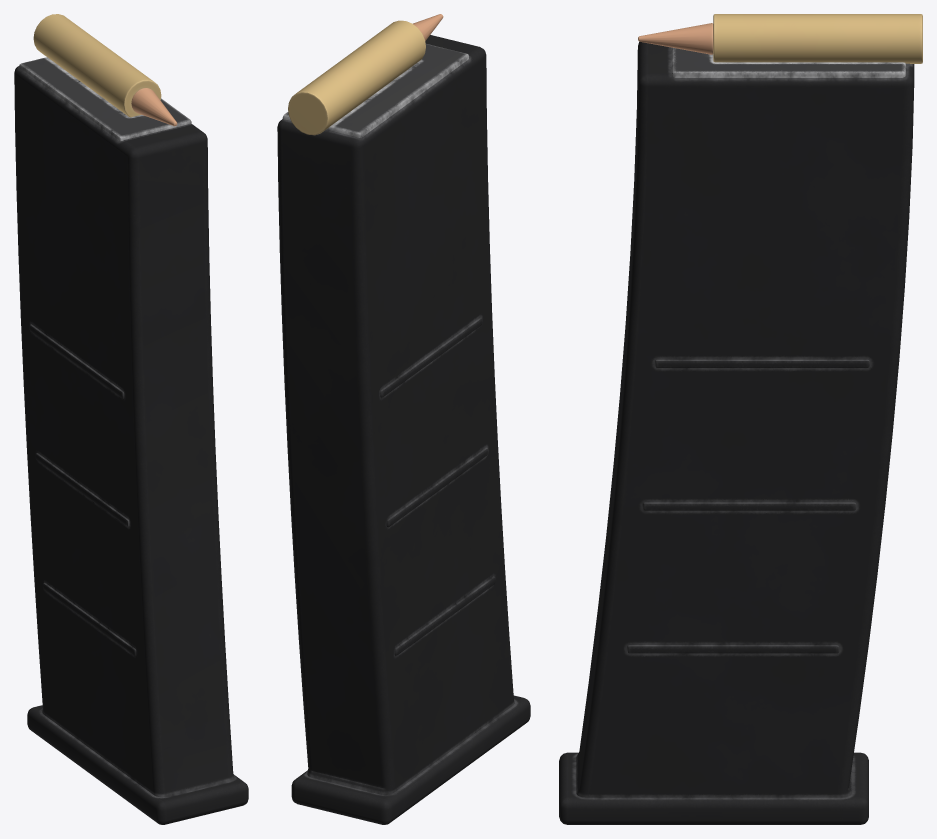
Rendered from mag_m38_25.glb.
3 renders of one model, left to right at view 1: azimuth 30°, elevation 25°; view 2: azimuth 150°, elevation 25°; view 3: azimuth 270°, elevation 25°, orthographic. The views are drawn at different scales.
Parts seen in each view (by area): view 1: body; view 2: body; view 3: body.
Boxes of the visible parts, x1,y1,x2,y2 form: body: (14,14,248,824); body: (277,14,530,824); body: (559,14,922,824).
Bounding box in the file's own units: 0.029 × 0.2077 × 0.0868.
1 material, 1 textured.
